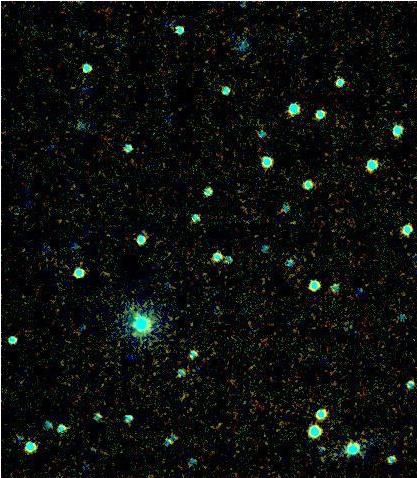star: (117, 320, 147, 350)
